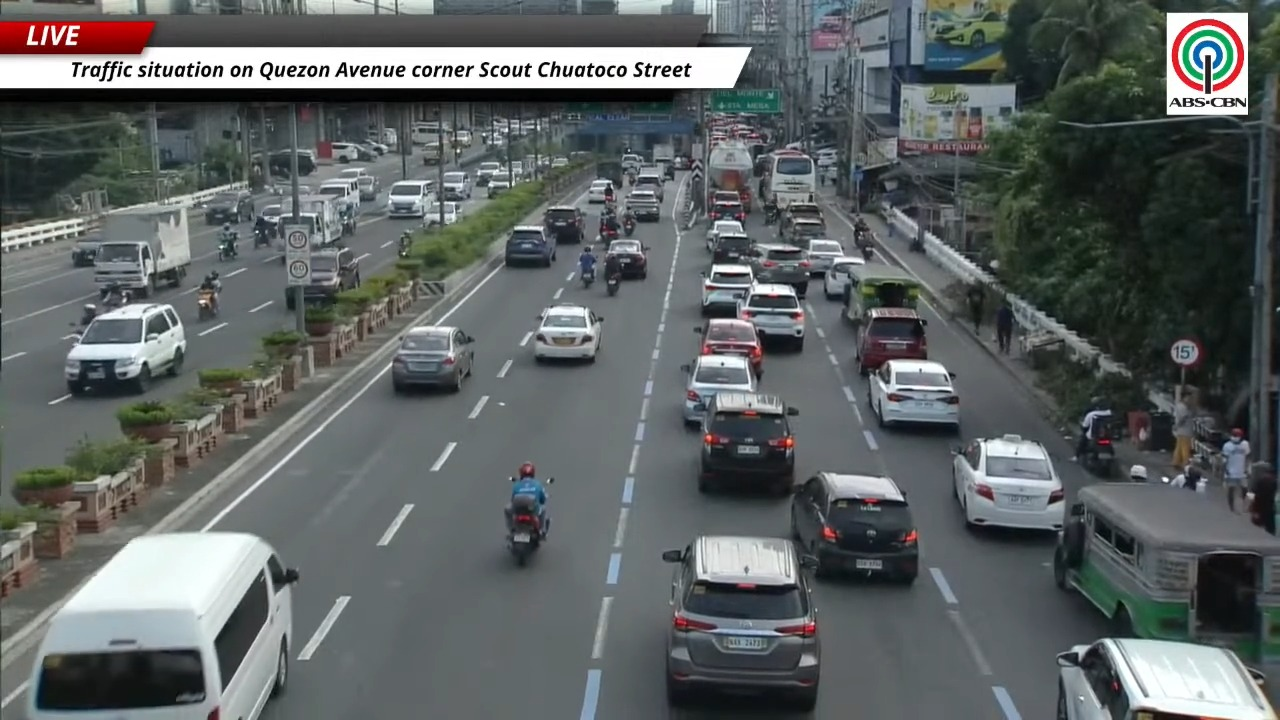bus: (762, 151, 817, 207), (411, 121, 450, 144)
car: (662, 536, 820, 711), (1055, 637, 1275, 719), (790, 472, 918, 583), (64, 303, 187, 396), (953, 434, 1065, 531), (697, 392, 798, 495), (868, 360, 959, 431), (391, 326, 474, 392), (681, 354, 757, 424), (855, 308, 927, 375), (736, 282, 805, 350), (532, 303, 602, 362), (695, 318, 763, 378), (303, 246, 360, 304), (750, 244, 810, 298), (931, 11, 1006, 49), (701, 264, 753, 316), (504, 225, 556, 266), (824, 256, 865, 299), (387, 180, 434, 217), (204, 190, 253, 224), (778, 202, 824, 237), (606, 239, 647, 278), (317, 179, 360, 215), (544, 205, 584, 243), (806, 238, 844, 275), (268, 150, 317, 176), (706, 219, 745, 251), (785, 217, 827, 246), (712, 233, 752, 263), (625, 189, 660, 221), (423, 201, 461, 226), (441, 171, 472, 201), (633, 171, 663, 201), (71, 237, 101, 266), (708, 201, 745, 222), (819, 8, 848, 34), (475, 161, 502, 186), (256, 203, 283, 226), (587, 179, 612, 203), (357, 175, 380, 201), (486, 175, 511, 198), (331, 143, 360, 162), (709, 190, 740, 206), (354, 143, 380, 161), (362, 138, 389, 155), (620, 153, 644, 171), (337, 167, 369, 179), (816, 149, 837, 167), (453, 130, 473, 148), (673, 155, 691, 170), (550, 156, 569, 168)
motorcycle: (1078, 420, 1117, 478), (507, 505, 542, 566), (99, 285, 130, 310), (72, 304, 98, 331), (197, 289, 218, 321), (218, 237, 238, 261), (341, 210, 357, 236), (253, 226, 270, 249), (606, 273, 621, 297), (909, 235, 925, 254), (764, 206, 779, 225), (580, 267, 594, 287), (600, 227, 618, 241), (860, 244, 873, 261), (623, 219, 635, 237), (397, 245, 409, 258)
truck: (93, 205, 191, 297), (706, 140, 753, 212), (299, 195, 341, 248), (596, 161, 624, 188), (653, 144, 674, 178), (652, 143, 674, 171)
